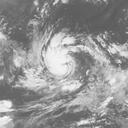cyclone: (45, 45, 72, 77)
